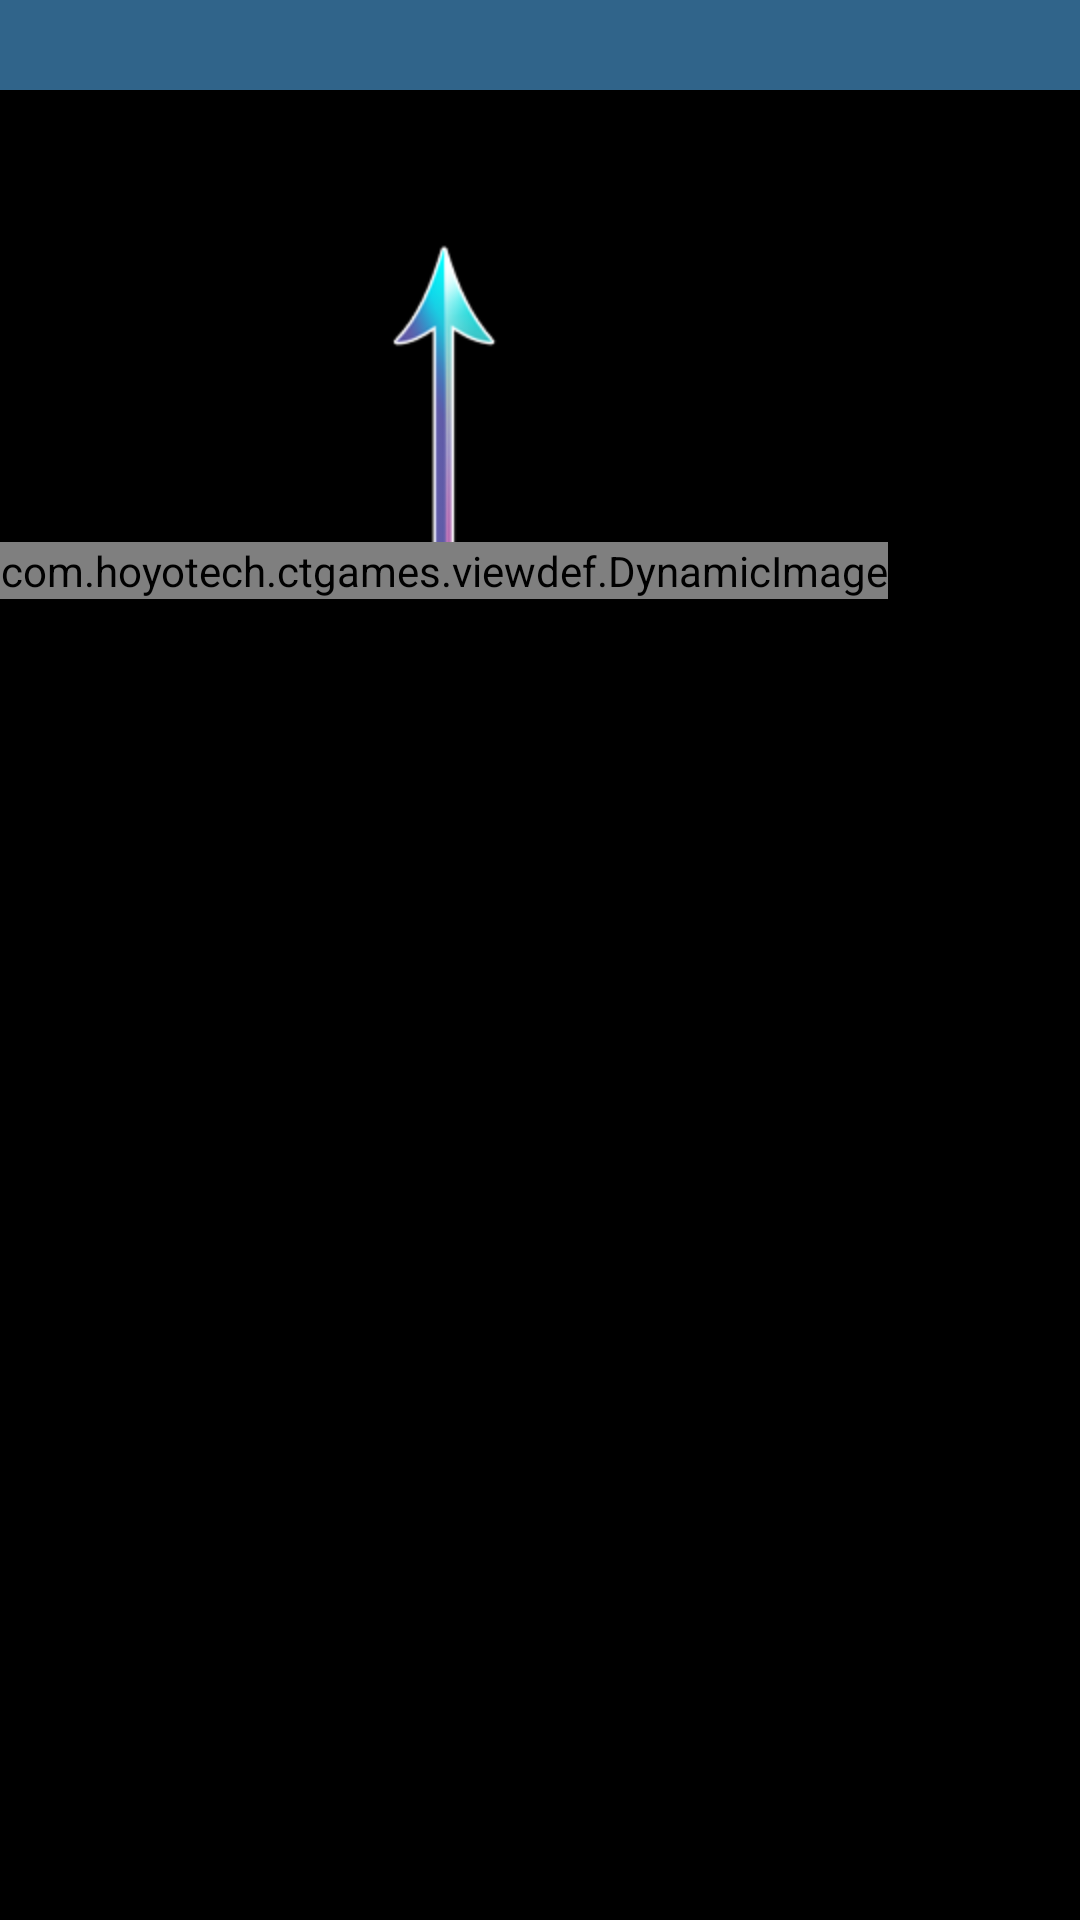

Icons on this 1080*1920 Android screen, each with its box as (x1, y1, x2, y2):
wheel arrow: (388, 245, 500, 599)
